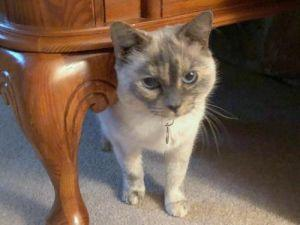siamese: (105, 9, 225, 129)
